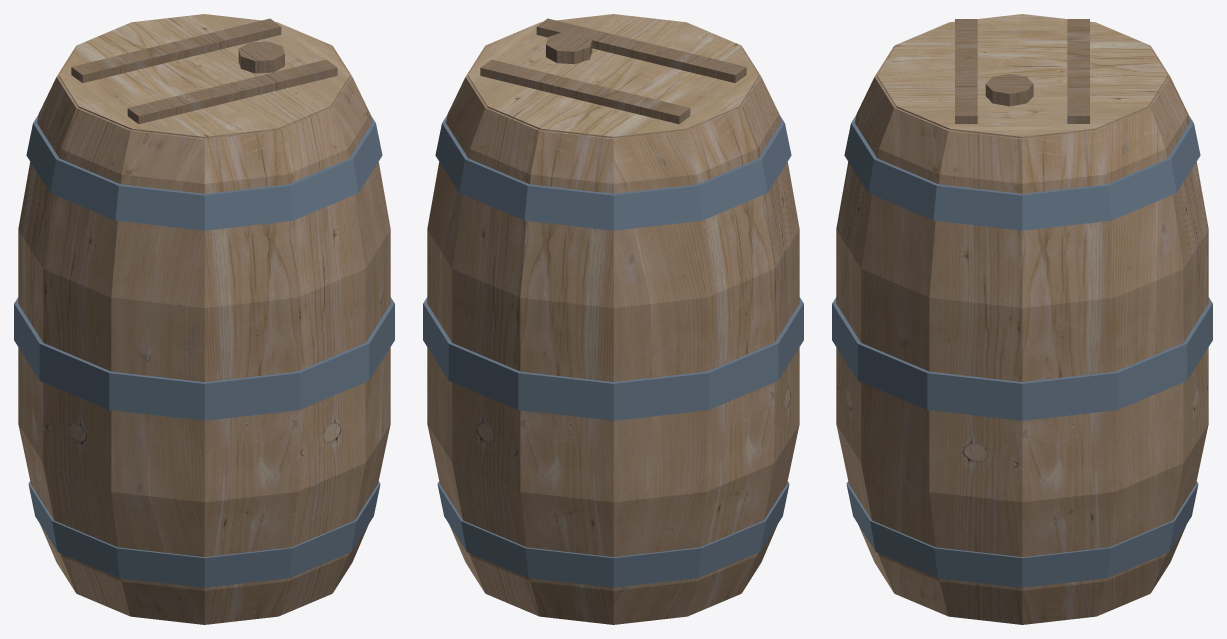
File: barrel.glb
3 views of the same model, side by side, from view 1: azimuth 30°, elevation 25°; view 2: azimuth 150°, elevation 25°; view 3: azimuth 270°, elevation 25° (orthographic).
Parts seen in each view (by area): view 1: barrel; view 2: barrel; view 3: barrel.
Part boxes in pixels (<box>): barrel: <box>14,14,394,624</box>; barrel: <box>423,14,803,624</box>; barrel: <box>832,14,1212,624</box>.
Size of the model in its own units: 0.746 by 1.09 by 0.746.
Materials: 4 (3 with a texture image).
